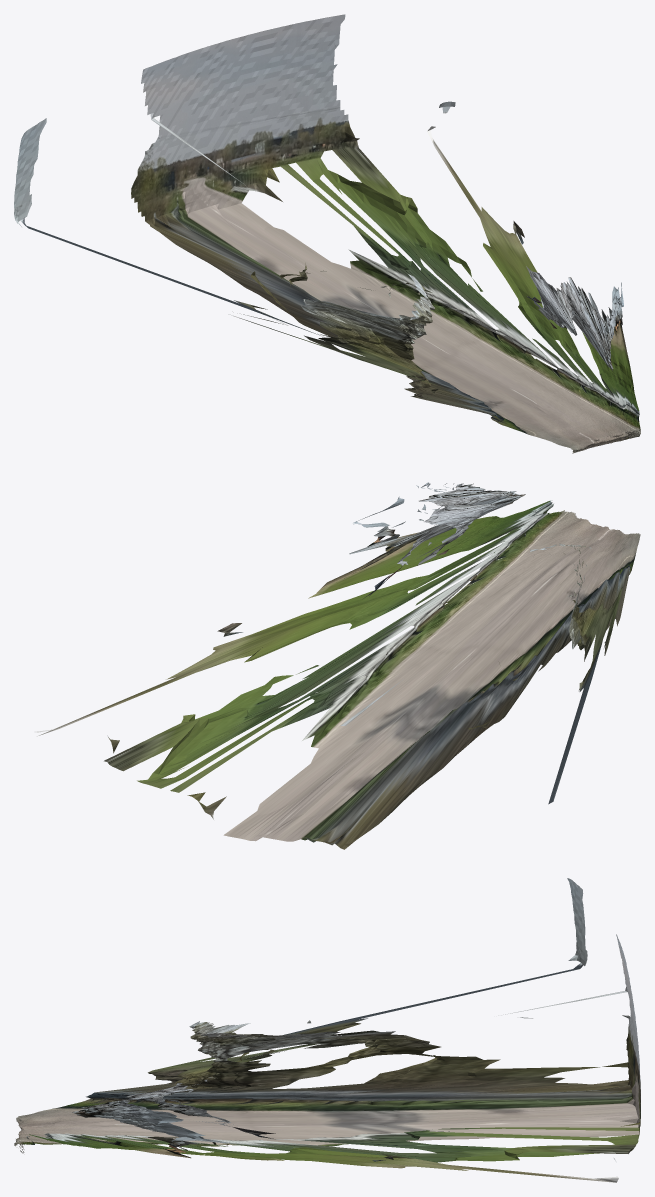
The picture shows the model from 3 angles, top to bottom: view 1: azimuth 30°, elevation 25°; view 2: azimuth 150°, elevation 25°; view 3: azimuth 270°, elevation 25°; orthographic projection. The views are drawn at different scales.
Parts seen in each view (by area): view 1: defaultobject; view 2: defaultobject; view 3: defaultobject.
Part boxes in pixels (x1=…): defaultobject: x1=14, y1=14, x2=640, y2=453; defaultobject: x1=34, y1=482, x2=640, y2=849; defaultobject: x1=14, y1=878, x2=640, y2=1182.
Bounding box in the file's own units: 33.75 × 12.24 × 44.41.
1 material, 1 textured.
